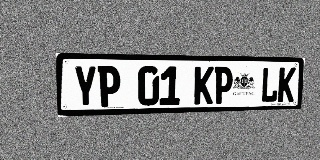0: (138, 66, 159, 106)
1: (160, 66, 180, 105)
K: (194, 66, 214, 104), (277, 67, 296, 102)
L: (260, 67, 279, 103)
P: (98, 66, 120, 107), (213, 67, 233, 104)
Y: (73, 65, 97, 108)
